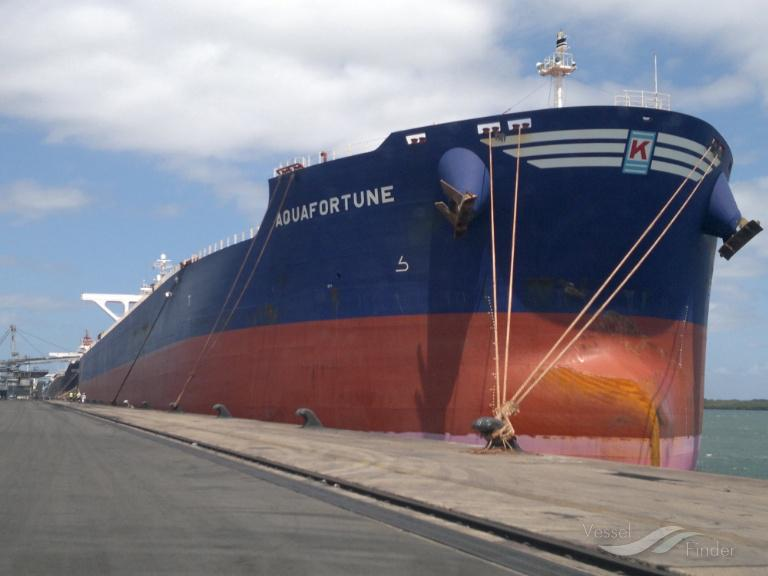OCR: (265, 183, 408, 232)
